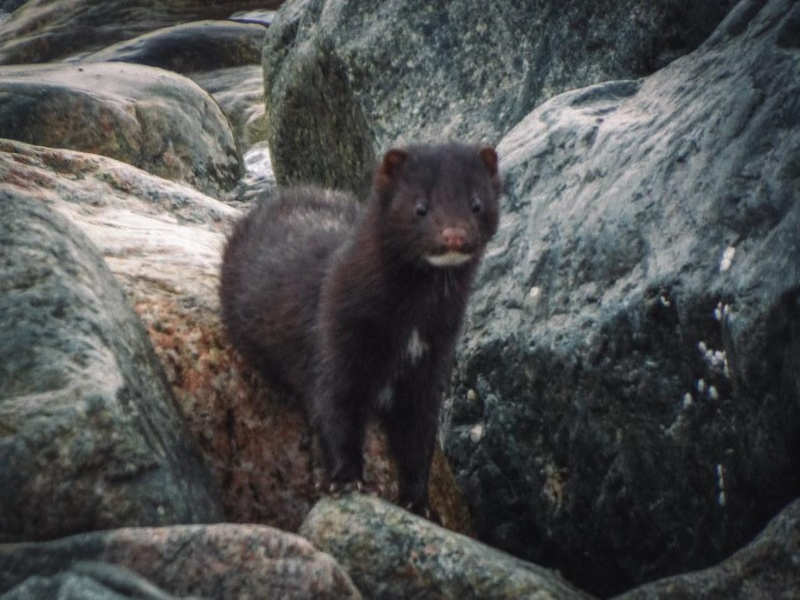minkish: (218, 144, 501, 535)
